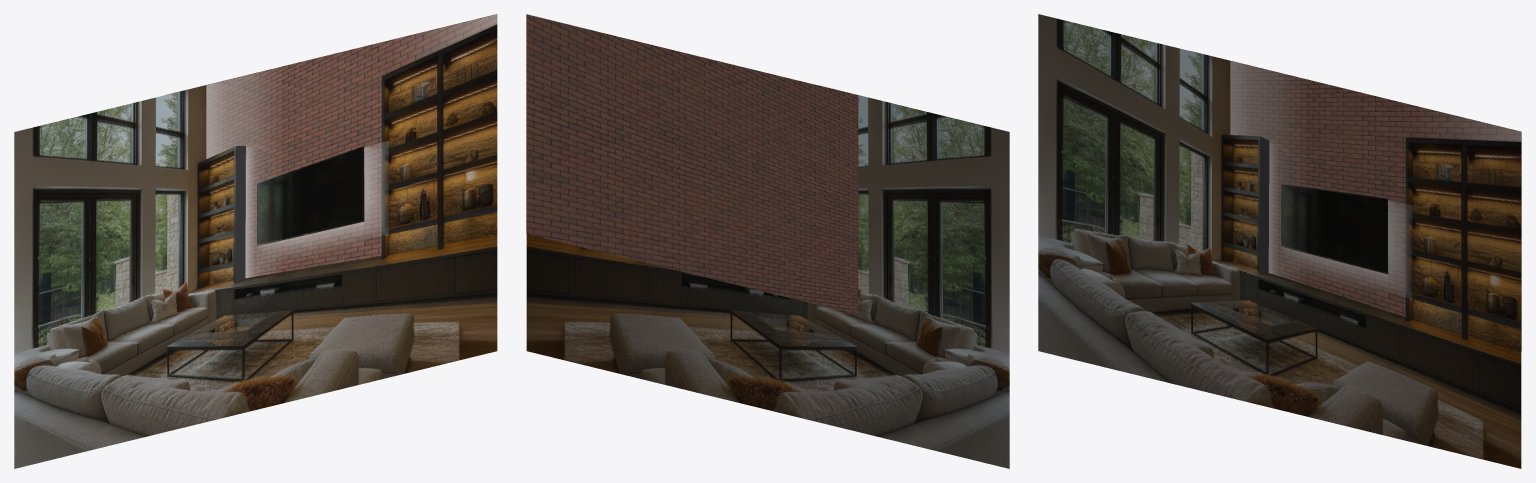
Rendered from place-salon.glb.
The picture shows the model from 3 angles, left to right: view 1: azimuth 30°, elevation 25°; view 2: azimuth 150°, elevation 25°; view 3: azimuth 330°, elevation 25°; orthographic projection.
Visible parts, largest first — view 1: ChatGPT Image 27 Eki 2025 09_58_43.002; view 2: ChatGPT Image 27 Eki 2025 09_58_43.002; view 3: ChatGPT Image 27 Eki 2025 09_58_43.002.
Boxes of the visible parts, left/top/right/bottom form: ChatGPT Image 27 Eki 2025 09_58_43.002: left=14, top=14, right=497, bottom=468; ChatGPT Image 27 Eki 2025 09_58_43.002: left=526, top=14, right=1009, bottom=468; ChatGPT Image 27 Eki 2025 09_58_43.002: left=1038, top=14, right=1521, bottom=468.
Bounding box in the file's own units: 1.5 × 1 × 0.00336.
9 materials, 8 textured.
